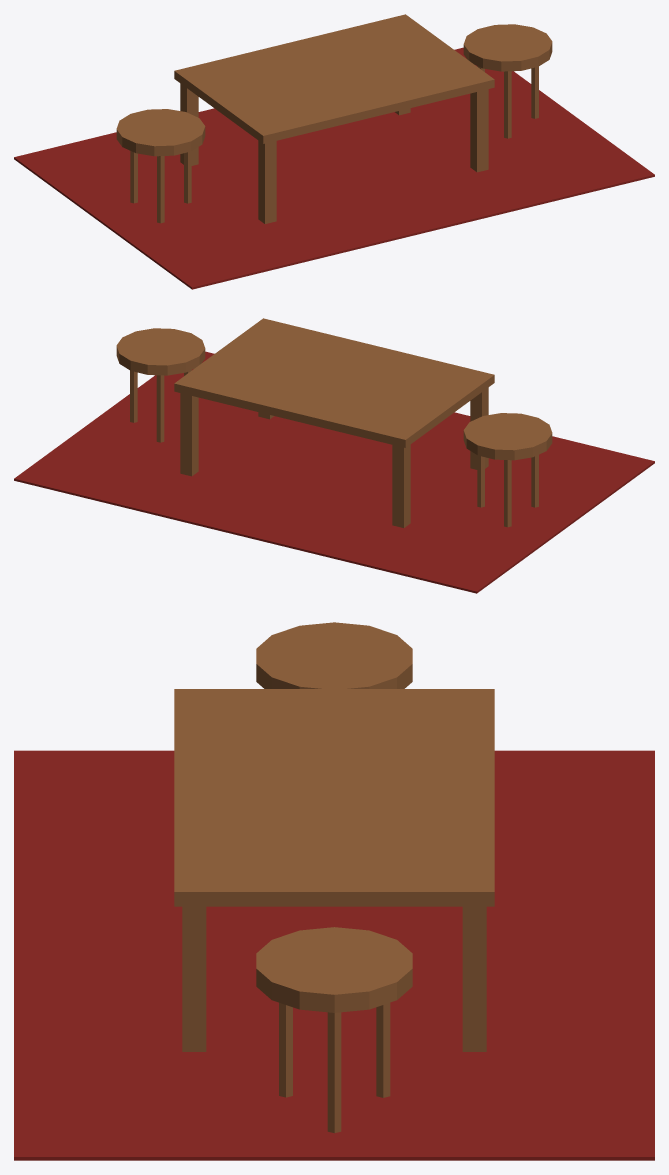
The model's file is low_table_set.obj.
The picture shows the model from 3 angles, top to bottom: view 1: azimuth 30°, elevation 25°; view 2: azimuth 150°, elevation 25°; view 3: azimuth 270°, elevation 25°; orthographic projection. The views are drawn at different scales.
Parts seen in each view (by area): view 1: low_table_set; view 2: low_table_set; view 3: low_table_set.
Boxes of the visible parts, x1=… form: low_table_set: x1=14, y1=14, x2=654, y2=289; low_table_set: x1=14, y1=318, x2=654, y2=593; low_table_set: x1=14, y1=622, x2=654, y2=1160.
Size of the model in its own units: 2.4 by 0.46 by 1.6.
